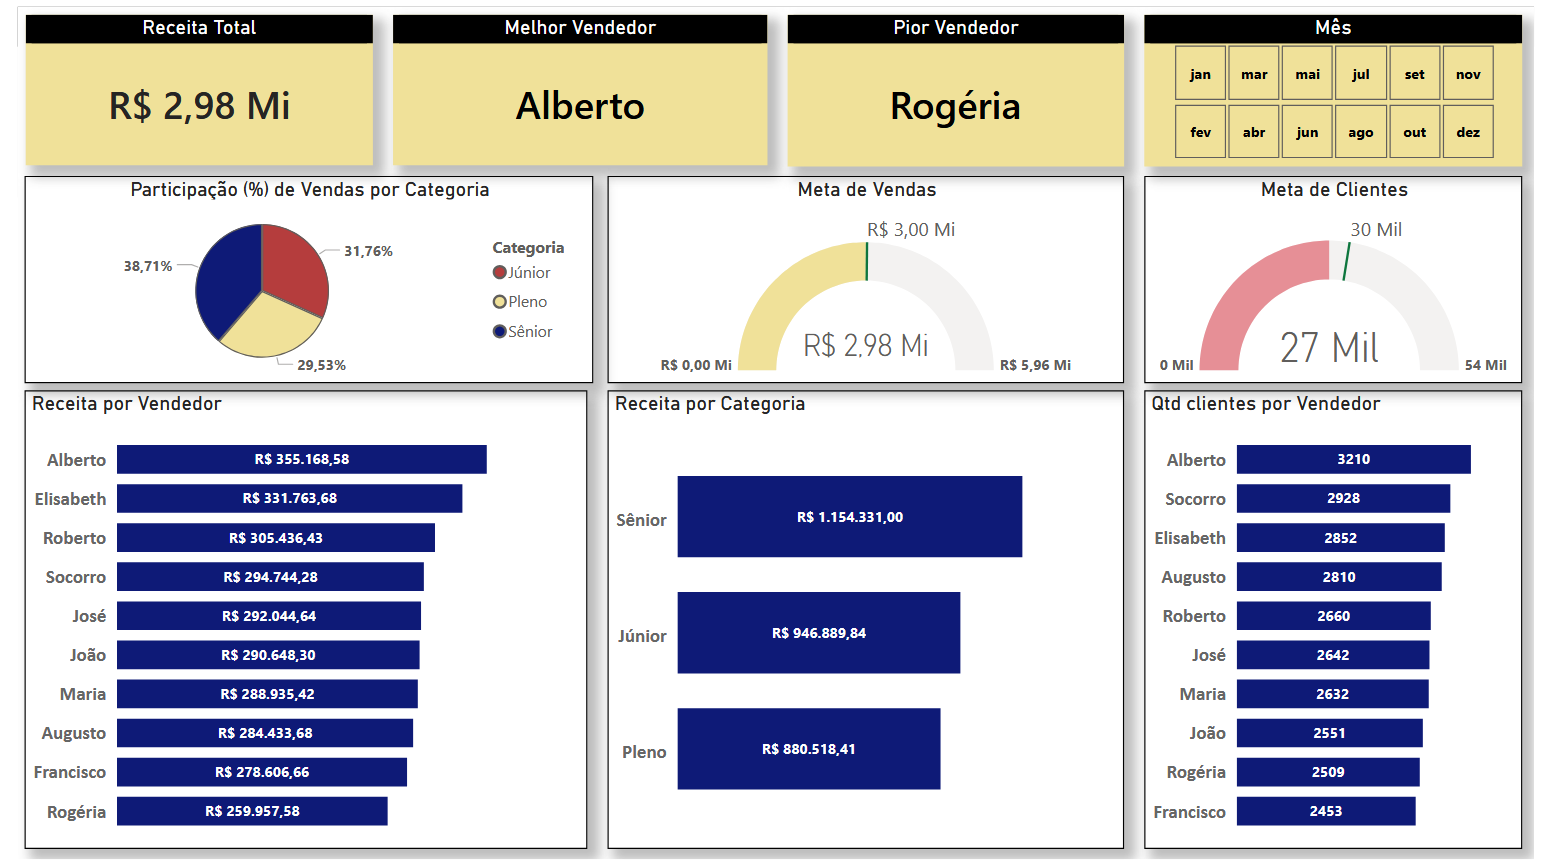

The page's visual inventory and layout, read from the dashboard file:
{"tool":"powerbi","page":{"name":"Dashboard","canvas":[1280,720],"ordinal":0},"visuals":[{"type":"cardVisual","title":"Total Vendido","fields":{"Data":["vendas.Valor total de vendas"]},"box":[6.5,6.8,293.2,127.5],"z":0},{"type":"cardVisual","title":"Melhor Vendedor","fields":{"Data":["Min(vendedores.NOME)"]},"box":[316.9,6.8,316,127.3],"z":1000},{"type":"barChart","fields":{"Category":["vendedores.NOME"],"Y":["vendas.Valor total de vendas"]},"box":[6.3,324.2,474.6,386.9],"z":2000},{"type":"barChart","fields":{"Y":["vendas.Valor total de vendas"],"Category":["categorias.DESCRICAO"]},"box":[497.9,324.2,436.1,386.9],"z":3000},{"type":"cardVisual","title":"Pior Vendedor","fields":{"Data":["Min(vendedores.NOME)"]},"box":[650,7.2,283.9,128.1],"z":4000},{"type":"barChart","fields":{"Category":["vendedores.NOME"],"Y":["vendas.Qtd clientes"]},"box":[951.2,324.2,318.8,386.9],"z":5000},{"type":"slicer","title":"Mês","fields":{"Values":["Calendário.Mes"]},"box":[951,7.2,318.8,128.1],"z":6000},{"type":"pieChart","title":"Percentual de Vendas por Categoria","fields":{"Category":["categorias.DESCRICAO"],"Y":["vendas.Valor total de vendas"]},"box":[6.3,143.3,480,174.6],"z":7000},{"type":"gauge","title":"Meta de Vendas","fields":{"Y":["vendas.Valor total de vendas"],"TargetValue":["vendas.MetaVendas"]},"box":[497.9,143.3,436.1,174.6],"z":8000},{"type":"gauge","title":"Meta de Clientes","fields":{"Y":["vendas.Qtd clientes"],"TargetValue":["vendas.MetaClientes"]},"box":[951.2,143.3,318.8,174.6],"z":9000}]}

Visuals, with their boxes in screenshot pixels (x1, y1, x2, y2), scaled from the page's 1280x720 canvas onto the 1550x867 screenshot:
"Total Vendido" cardVisual: x1=8 y1=8 x2=363 y2=162
"Melhor Vendedor" cardVisual: x1=384 y1=8 x2=766 y2=161
barChart - vendedores.NOME x vendas.Valor total de vendas: x1=8 y1=390 x2=582 y2=856
barChart - vendas.Valor total de vendas x categorias.DESCRICAO: x1=603 y1=390 x2=1131 y2=856
"Pior Vendedor" cardVisual: x1=787 y1=9 x2=1131 y2=163
barChart - vendedores.NOME x vendas.Qtd clientes: x1=1152 y1=390 x2=1538 y2=856
"Mês" slicer: x1=1152 y1=9 x2=1538 y2=163
"Percentual de Vendas por Categoria" pieChart: x1=8 y1=173 x2=589 y2=383
"Meta de Vendas" gauge: x1=603 y1=173 x2=1131 y2=383
"Meta de Clientes" gauge: x1=1152 y1=173 x2=1538 y2=383
